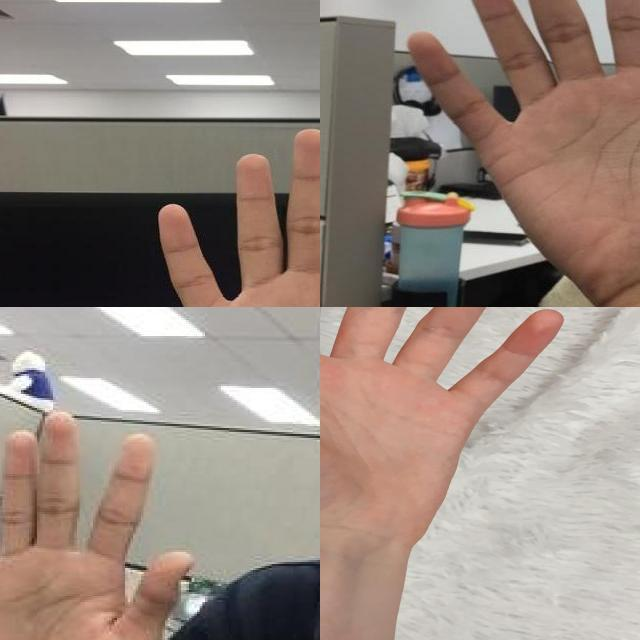hand: (405, 0, 640, 282), (320, 307, 564, 550), (0, 408, 194, 640), (141, 127, 320, 307)
